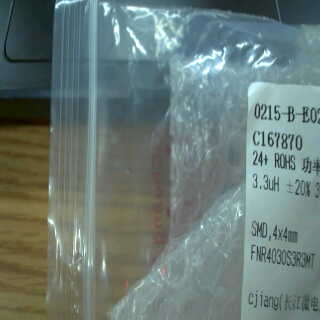3.3uH: (251, 172, 279, 198)
